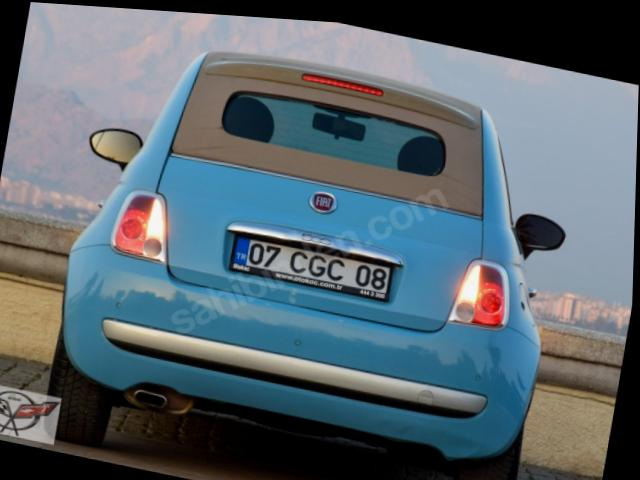plaka: (230, 236, 392, 301)
